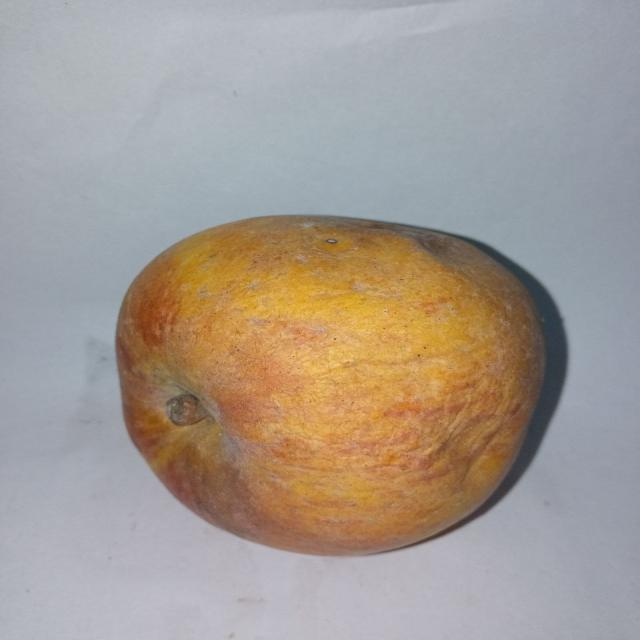rotten_apple: (113, 216, 546, 560)
